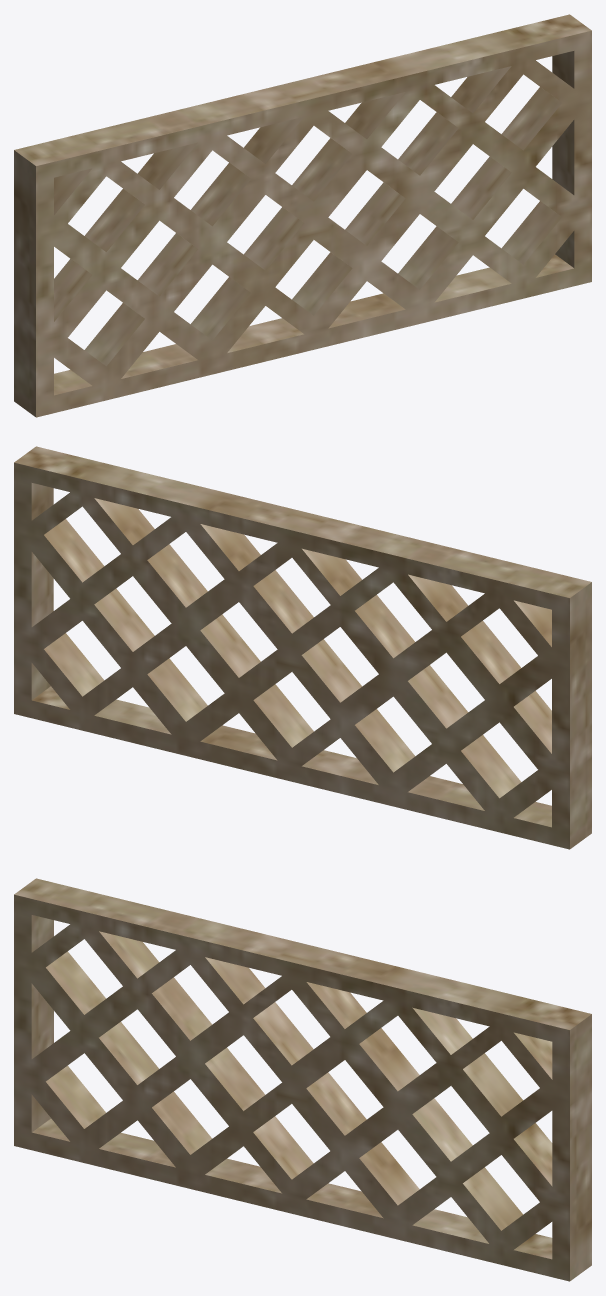
File: stone_column_230.fbx
3 renders of one model, top to bottom at view 1: azimuth 30°, elevation 25°; view 2: azimuth 150°, elevation 25°; view 3: azimuth 330°, elevation 25°, orthographic.
Visible parts, largest first — view 1: stone_column_230; view 2: stone_column_230; view 3: stone_column_230.
Part boxes in pixels (bbox=[...]): stone_column_230: bbox=[14, 14, 591, 417]; stone_column_230: bbox=[14, 446, 591, 849]; stone_column_230: bbox=[14, 878, 591, 1281].
Bounding box in the file's own units: 43.5 × 18.8 × 3.
